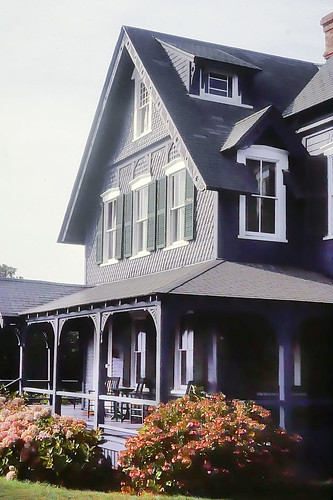high: (10, 20, 333, 475)
